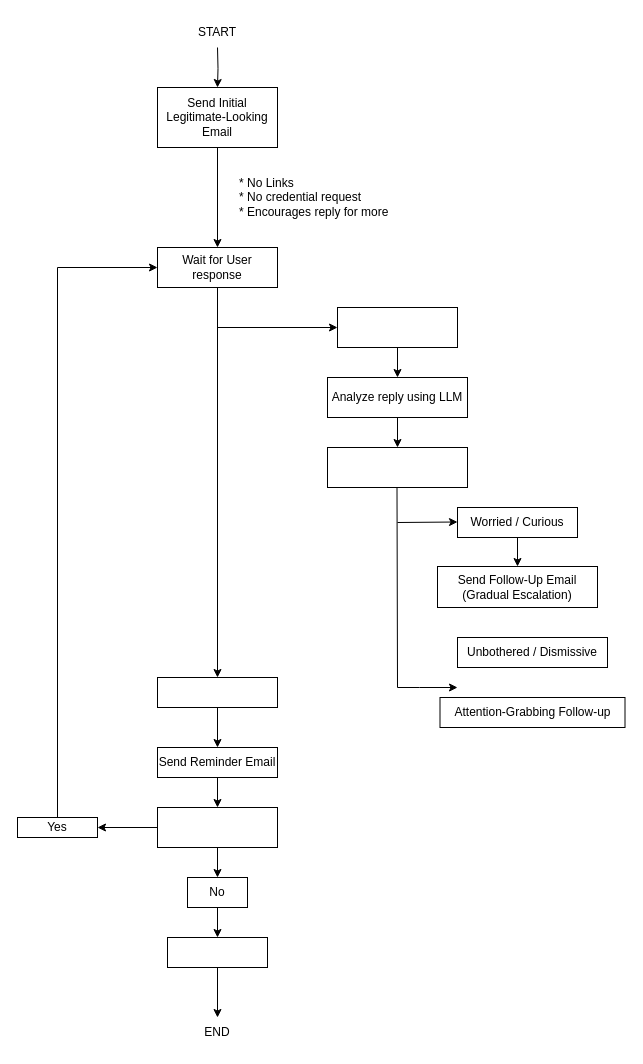
Image size: 643x1064. Some labels were removed from this diagram. The box of each missing label's shape, as (x1, y1, x2, y2) in pixels:
Determine User Intent: (326, 446, 468, 488)
No Reply: (156, 676, 278, 708)
Retry Count > 3 ?: (156, 806, 278, 848)
Stop In teraction: (166, 936, 268, 968)
User replies: (336, 306, 458, 348)
